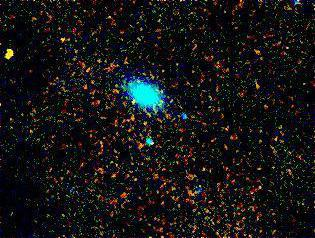star: (0, 34, 25, 64)
